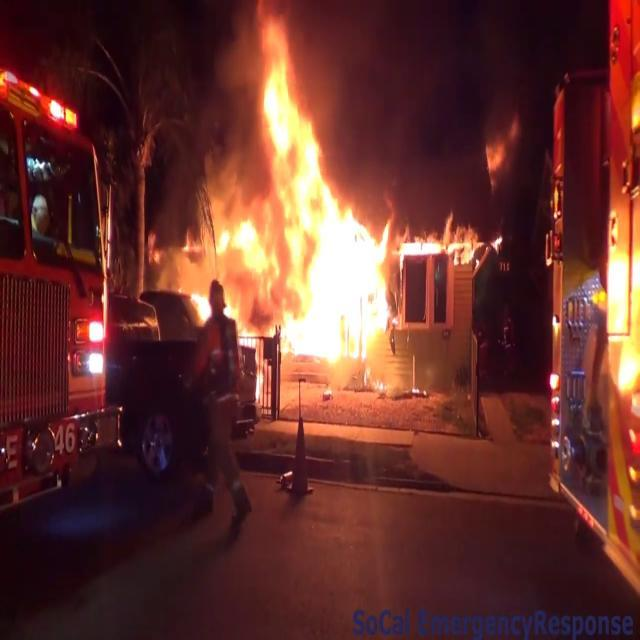Fire: (190, 9, 394, 370), (600, 194, 640, 395), (400, 207, 486, 266)
